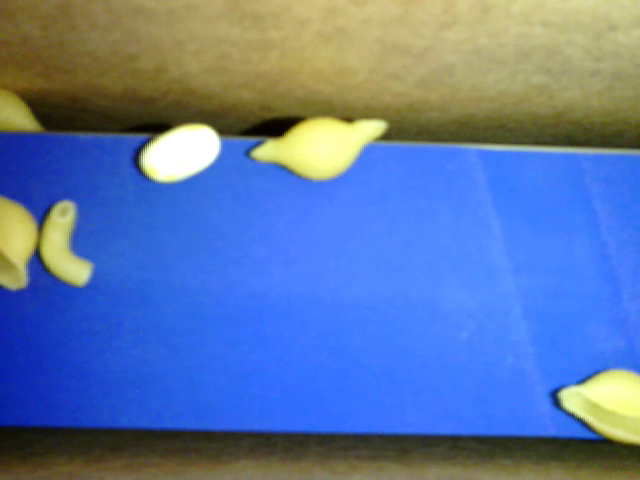elbow: (39, 199, 93, 286)
shell: (250, 115, 387, 181), (557, 367, 639, 443), (1, 195, 40, 290)
